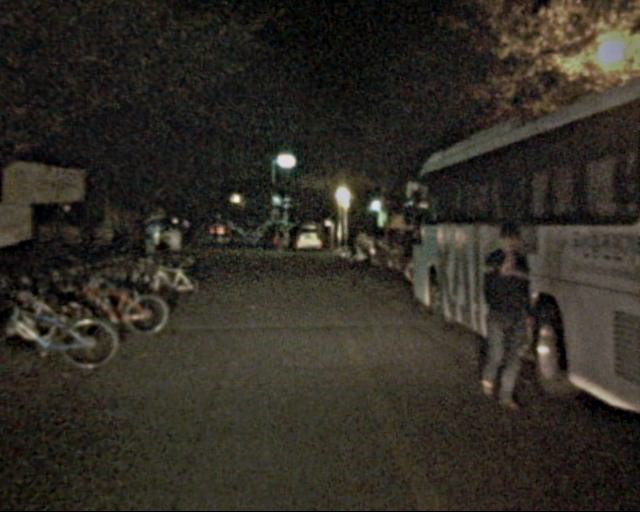person: (466, 213, 544, 416), (162, 222, 185, 279)
